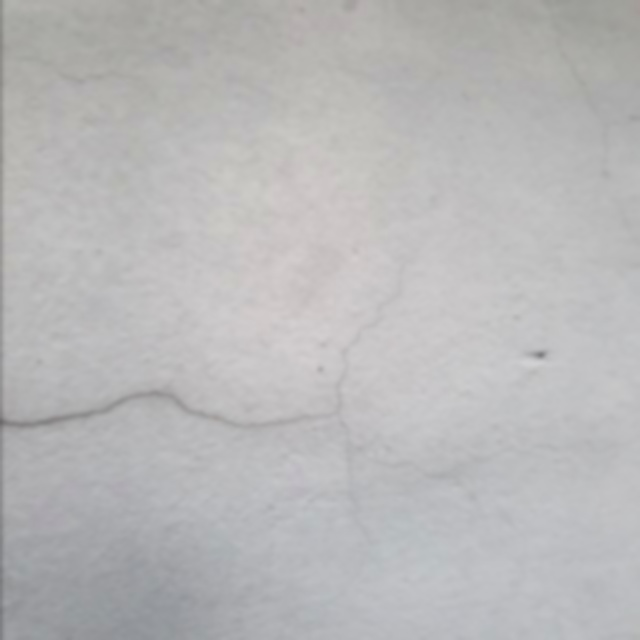SurfaceCrack: (1, 238, 604, 486)
